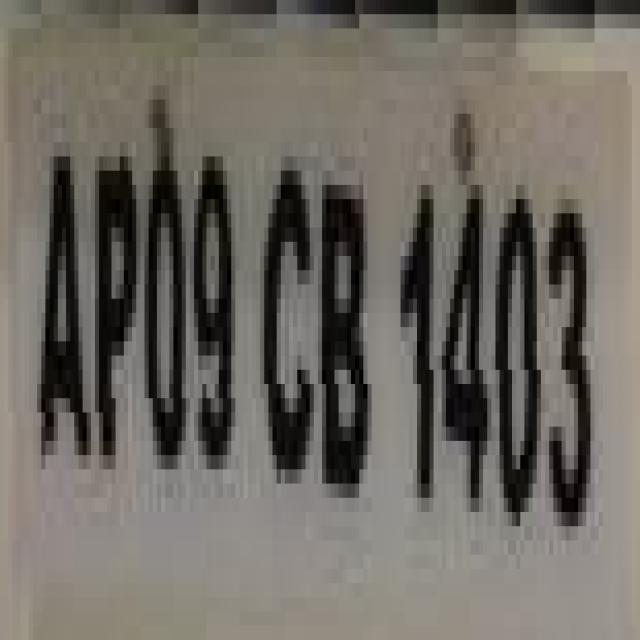license_plate: (8, 0, 640, 612)
